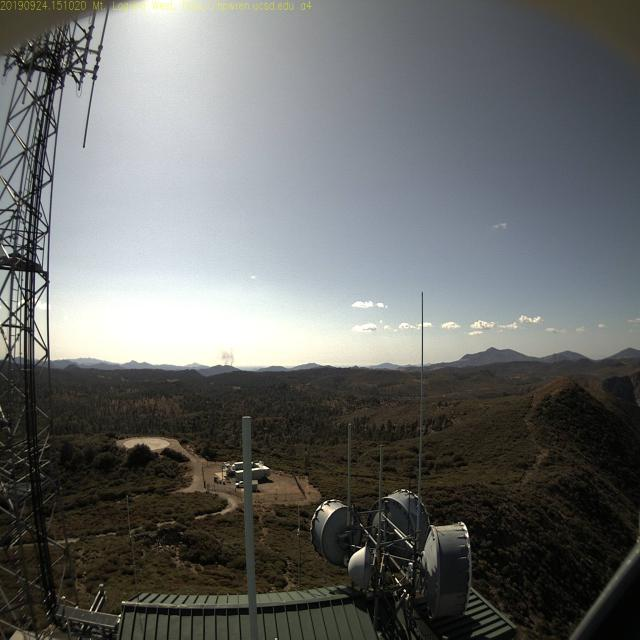smoke: (219, 350, 237, 370)
